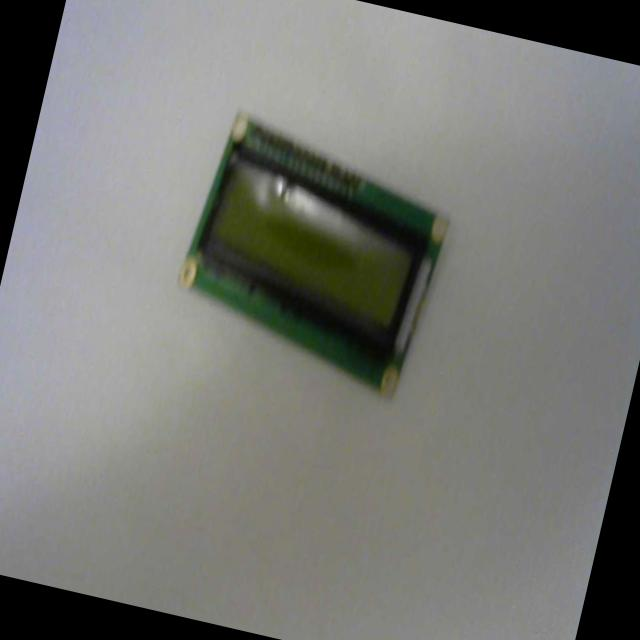lcd: (161, 100, 465, 404)
